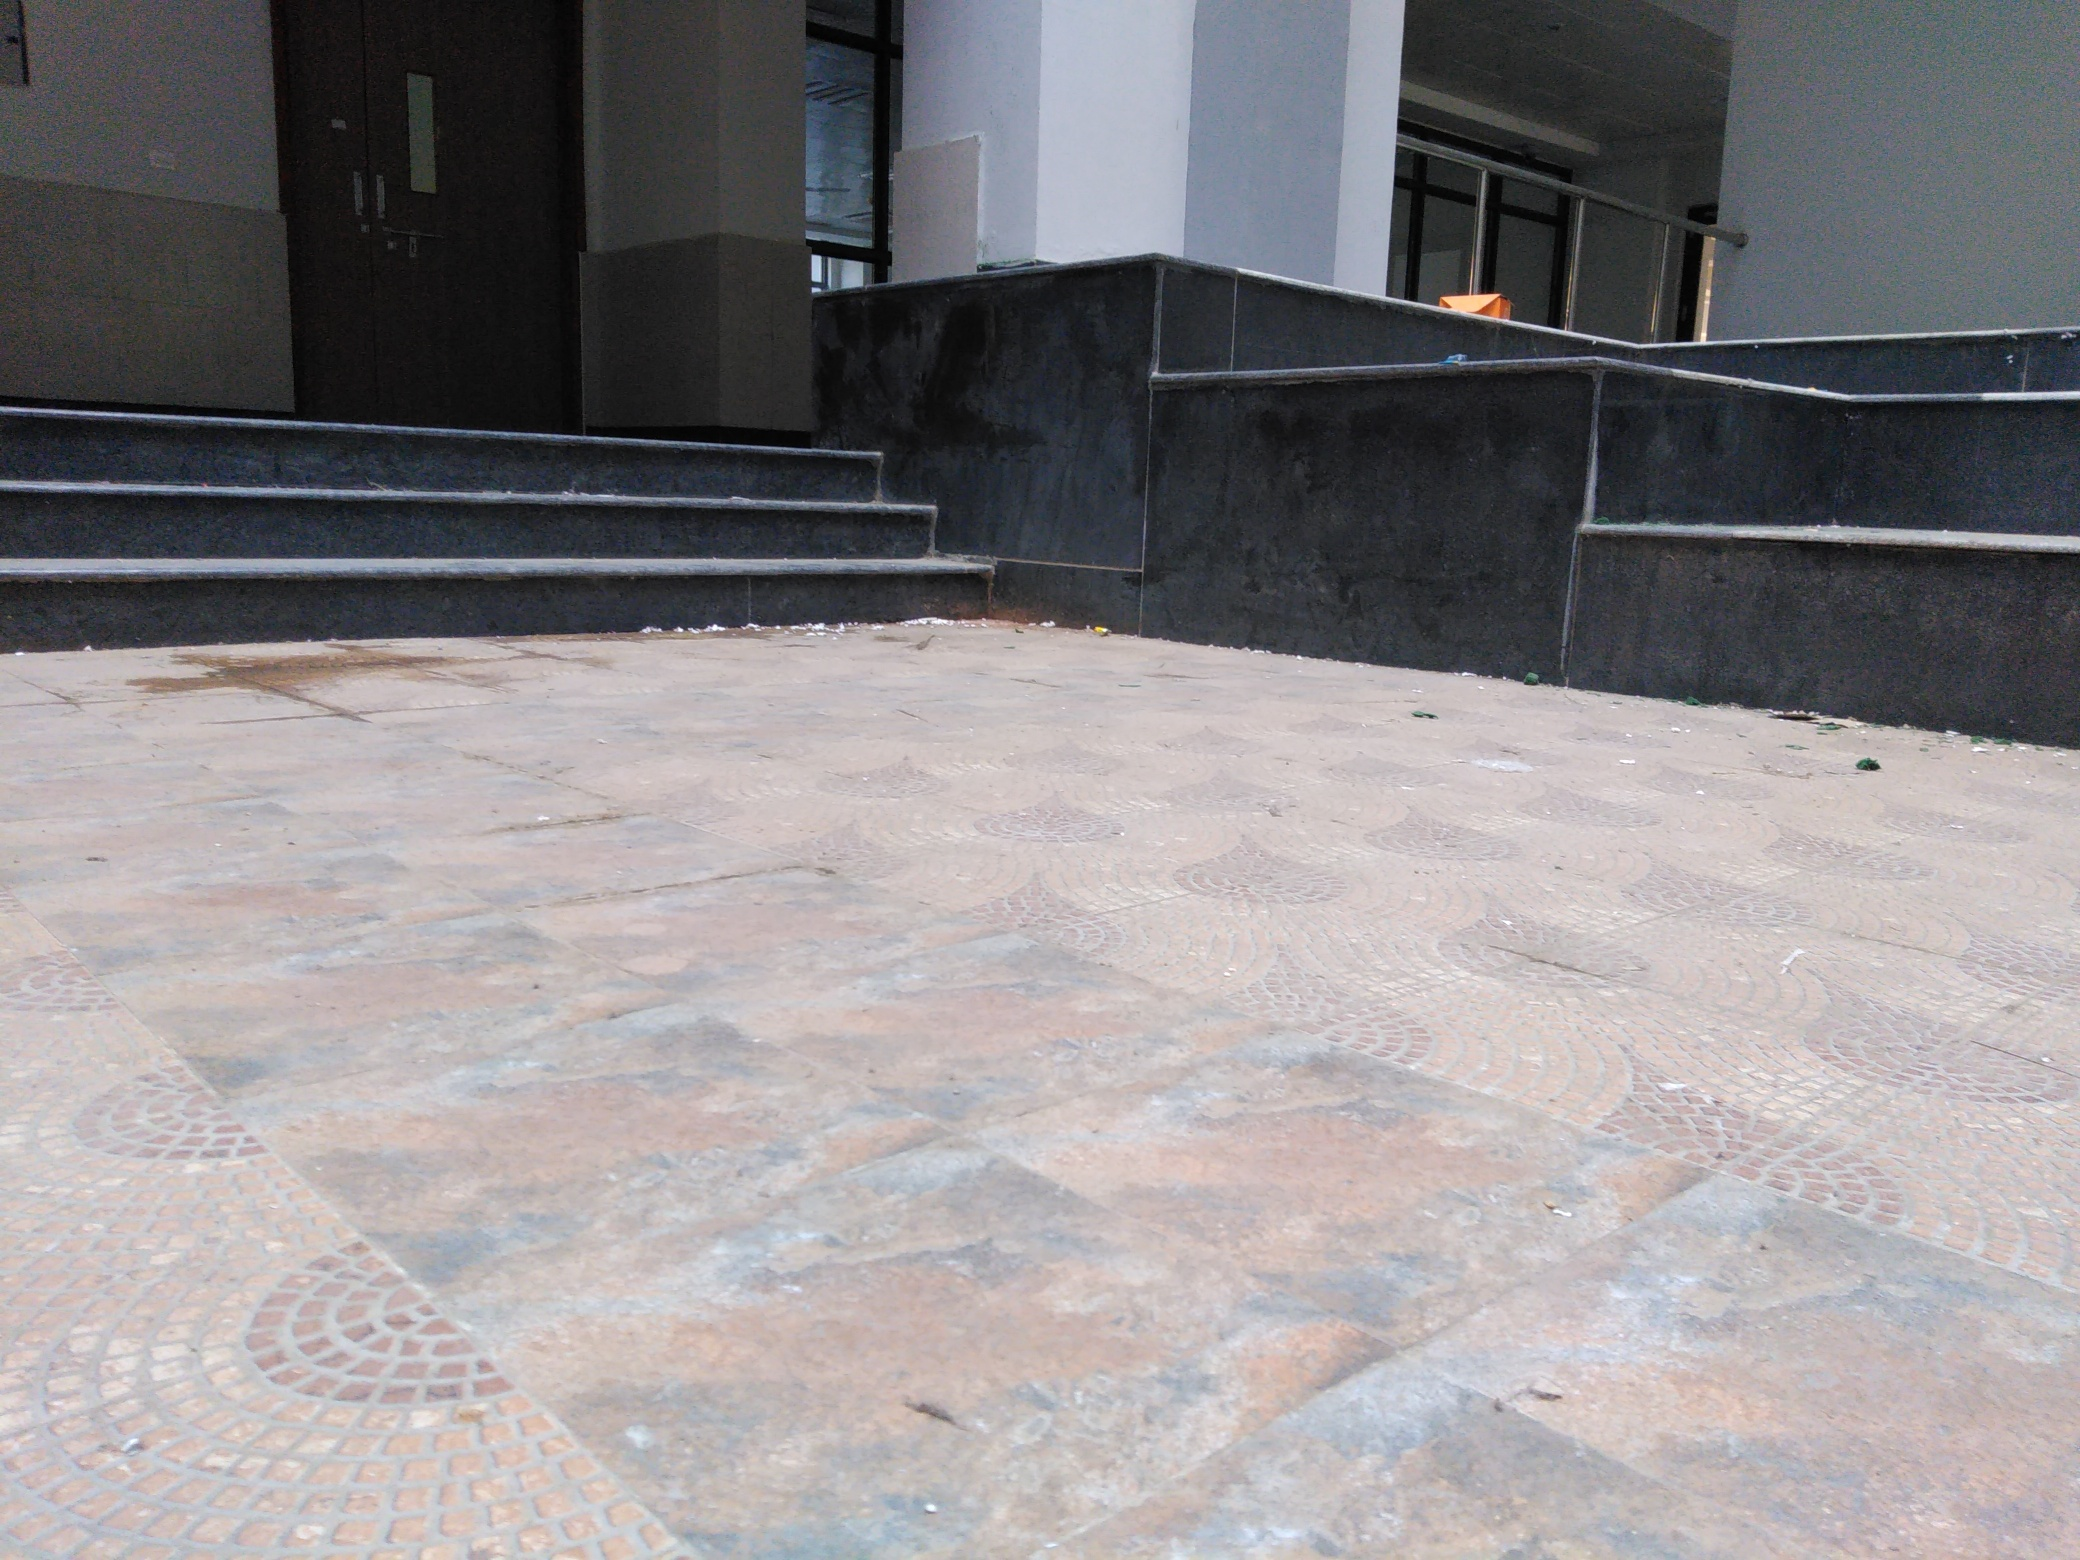stairs_up: (8, 405, 1006, 644)
